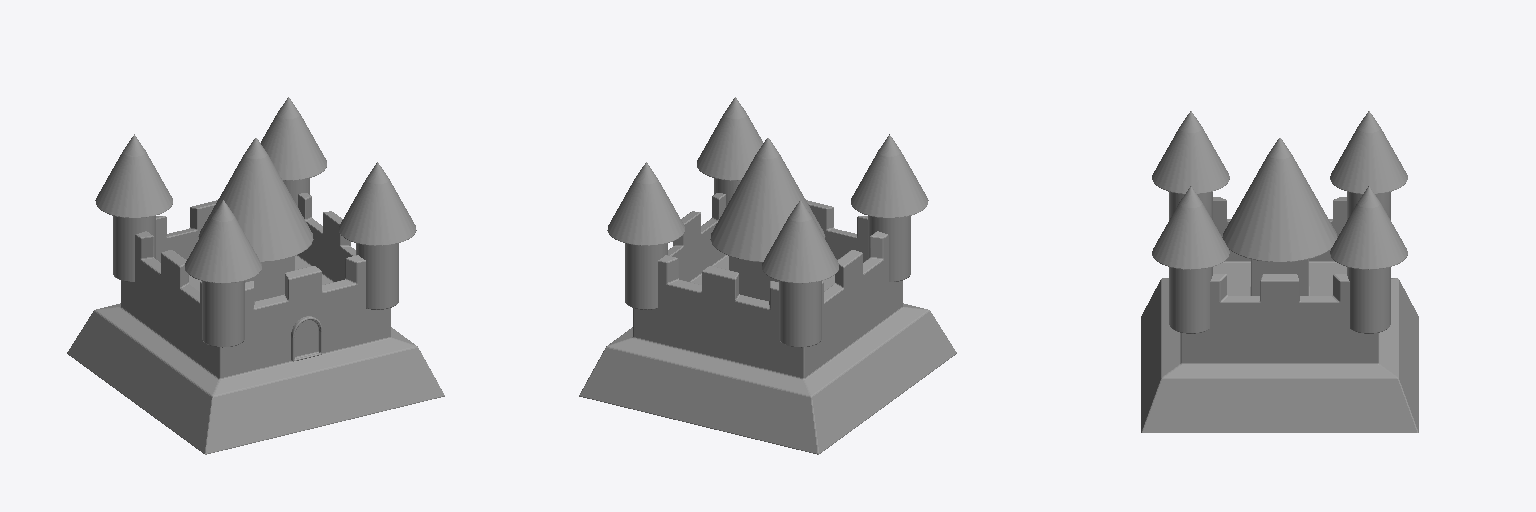
File: WarBase.obj
3 views of the same model, side by side, from view 1: azimuth 30°, elevation 25°; view 2: azimuth 150°, elevation 25°; view 3: azimuth 270°, elevation 25° (orthographic).
Visible parts, largest first — view 1: Cube; view 2: Cube; view 3: Cube.
Part boxes in pixels (x1,y1,x2,y2): Cube: (67, 97, 444, 454); Cube: (579, 97, 956, 454); Cube: (1141, 111, 1418, 432).
Size of the model in its own units: 8.52 by 8.09 by 8.52.